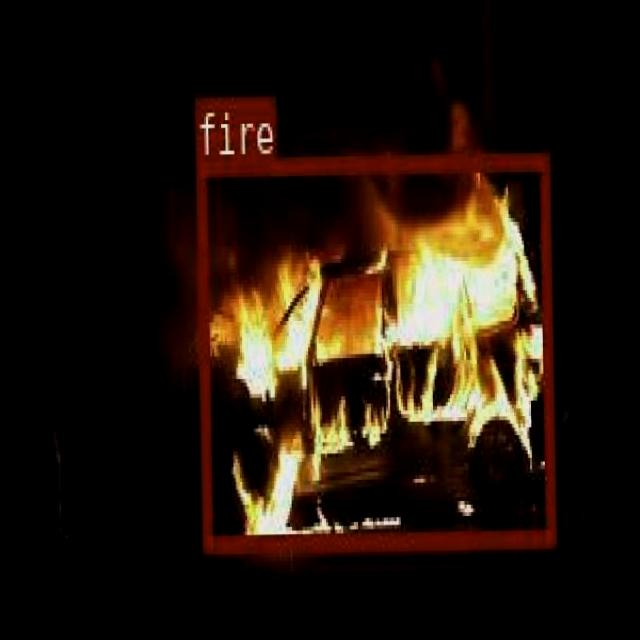fire: (195, 150, 554, 548)
